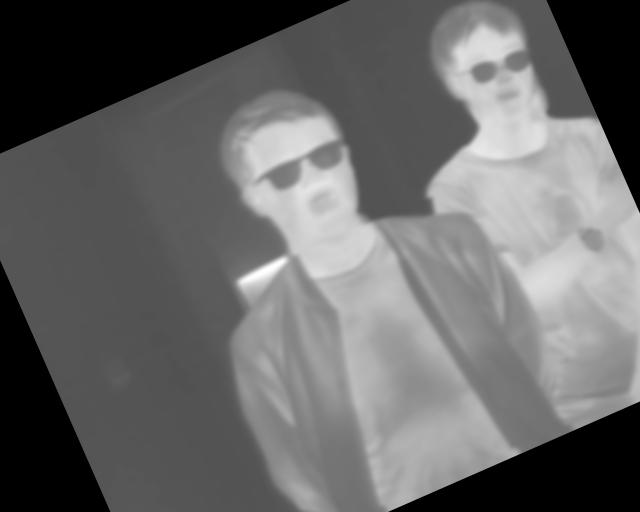face: (200, 68, 382, 268), (413, 1, 556, 138)
